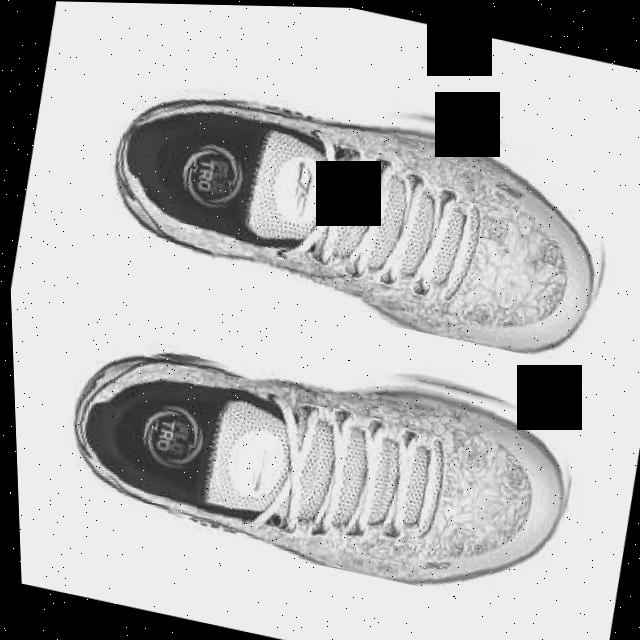shoe: (86, 37, 633, 367), (43, 296, 588, 613)
